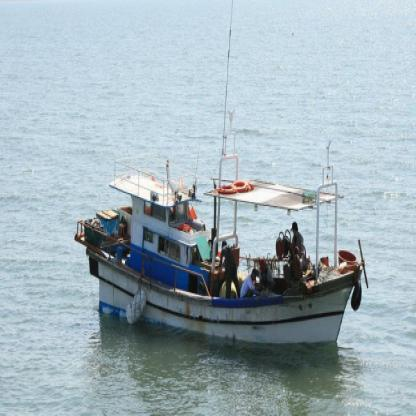boat: (71, 116, 371, 352)
